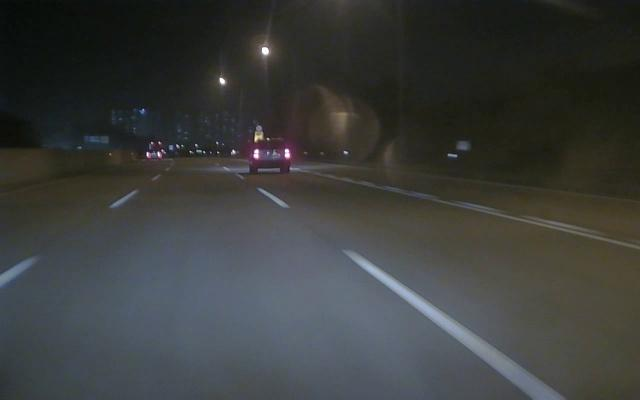lane: (259, 190, 567, 399), (322, 170, 640, 251), (1, 191, 135, 288)
